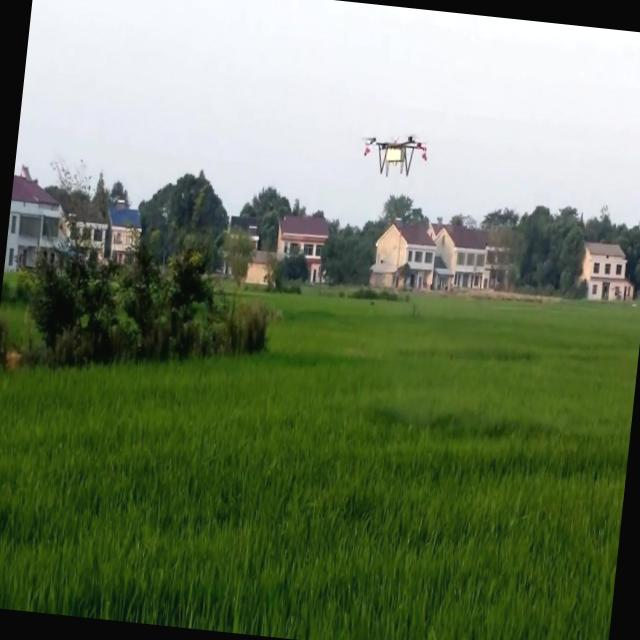drone: (356, 126, 429, 182)
